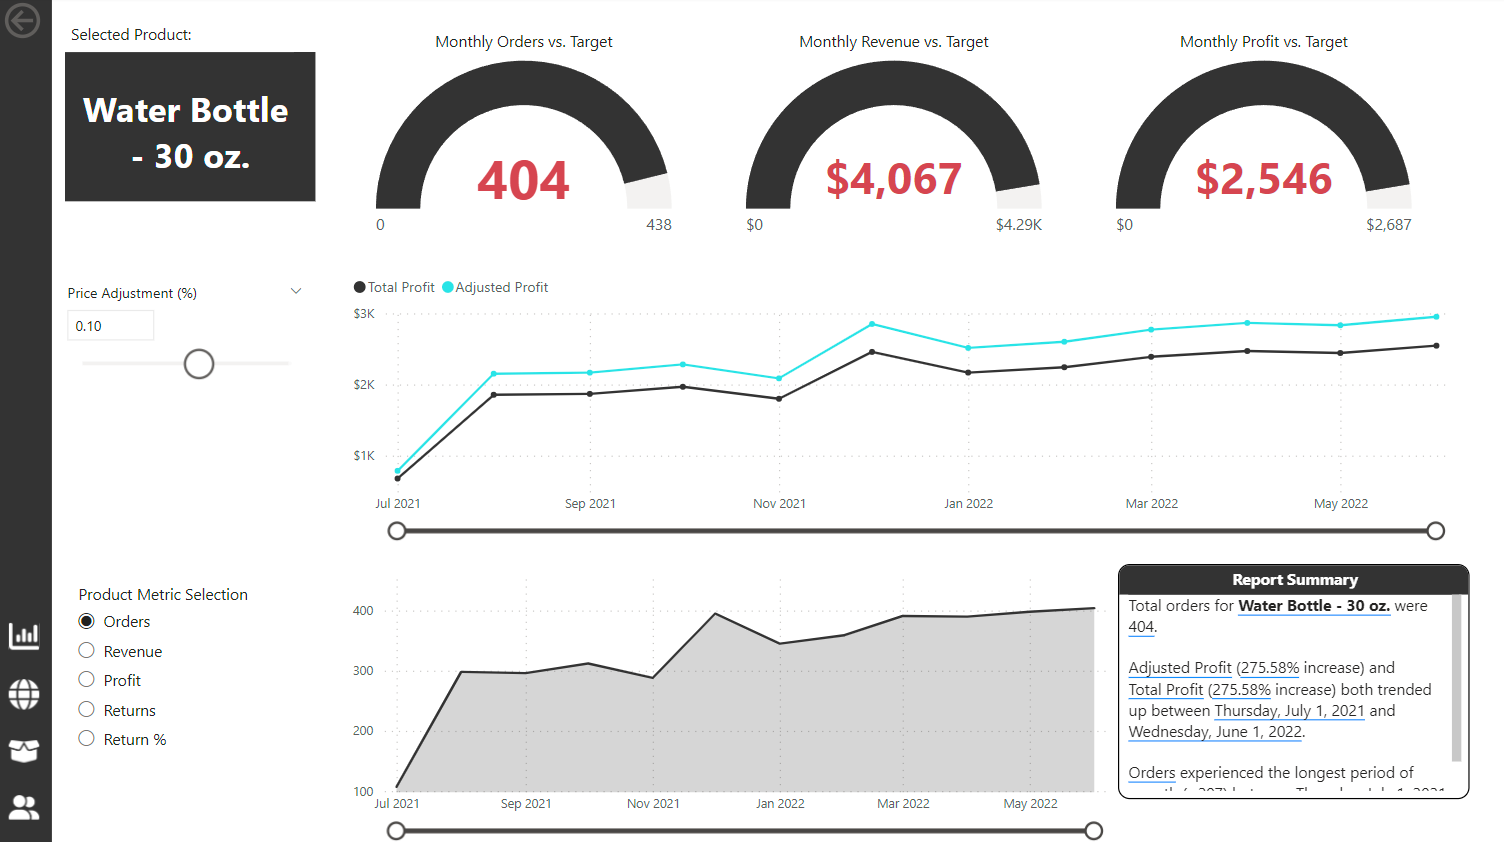

The page's visual inventory and layout, read from the dashboard file:
{"tool":"powerbi","page":{"name":"Product Detail","canvas":[1280,720],"ordinal":2},"visuals":[{"type":"shape","box":[0,0,45,720],"z":0},{"type":"gauge","title":"Monthly Orders vs. Target","fields":{"Y":["Measure Table.Total Orders"],"MaxValue":["Measure Table.Order Target"]},"box":[315.5,28.5,261.6,186.3],"z":1000},{"type":"actionButton","box":[4.6,524.8,34,37.7],"z":1000,"group":"g1"},{"type":"gauge","title":"Monthly Revenue vs. Target","fields":{"Y":["Measure Table.Total Revenue"],"MaxValue":["Measure Table.Revenue Target"]},"box":[630,28.5,261.6,186.3],"z":2000},{"type":"actionButton","box":[4.6,574.4,34,37.7],"z":2000,"group":"g1"},{"type":"gauge","title":"Monthly Profit vs. Target","fields":{"Y":["Measure Table.Total Profit"],"MaxValue":["Measure Table.Profit Target"]},"box":[944.5,28.5,261.6,186.3],"z":3000},{"type":"actionButton","box":[4.6,622.2,34,37.7],"z":3000,"group":"g1"},{"type":"lineChart","title":"Profit Trending","fields":{"Category":["Calendar Lookup.Date Hierarchy.Start of Year","Calendar Lookup.Date Hierarchy.Start of Month","Calendar Lookup.Date Hierarchy.Start of Week","Calendar Lookup.Date Hierarchy.Date"],"Y":["Measure Table.Total Profit","Measure Table.Adjusted Profit"]},"box":[295.8,226.7,955.6,238.2],"z":4000},{"type":"actionButton","box":[4.6,670,34,37.7],"z":4000,"group":"g1"},{"type":"areaChart","title":"Return Trending","fields":{"Y":["Measure Table.Total Orders"],"Category":["Calendar Lookup.Date Hierarchy.Start of Year","Calendar Lookup.Date Hierarchy.Start of Month","Calendar Lookup.Date Hierarchy.Start of Week","Calendar Lookup.Date Hierarchy.Date"]},"box":[295.5,481.9,665.4,238.1],"z":5000},{"type":"actionButton","box":[0,0,100,40],"z":6000},{"type":"card","fields":{"Values":["Min(Product Lookup.ProductName)"]},"box":[56.4,46.6,213.2,127.5],"z":7000},{"type":"textbox","box":[56.4,17.8,194.4,29.3],"z":8000},{"type":"group","id":"g1","title":"Navigation Buttons","box":[4.6,524.8,34,182.9],"z":9000},{"type":"slicer","fields":{"Values":["Price Adjustment (%).Price Adjustment (%)"]},"box":[45.2,238.1,224.9,107.3],"z":10000},{"type":"slicer","fields":{"Values":["Product Metric Selection.Product Metric Selection"]},"box":[54.6,494.1,215.5,192.9],"z":11000},{"type":"textbox","title":"Report Summary","box":[951.5,481.9,299.3,199.5],"z":12000}]}

Visuals, with their boxes on the page's 1280x720 design canvas (x1, y1, x2, y2). These are canvas units, not pixel positions in the 1504x842 screenshot, which may show the page scaled, cropped or inside an application window:
shape: [0, 0, 45, 720]
"Monthly Orders vs. Target" gauge: [316, 28, 577, 215]
actionButton: [5, 525, 39, 562]
"Monthly Revenue vs. Target" gauge: [630, 28, 892, 215]
actionButton: [5, 574, 39, 612]
"Monthly Profit vs. Target" gauge: [944, 28, 1206, 215]
actionButton: [5, 622, 39, 660]
"Profit Trending" lineChart: [296, 227, 1251, 465]
actionButton: [5, 670, 39, 708]
"Return Trending" areaChart: [296, 482, 961, 720]
actionButton: [0, 0, 100, 40]
card - Min(Product Lookup.ProductName): [56, 47, 270, 174]
textbox: [56, 18, 251, 47]
"Navigation Buttons" group: [5, 525, 39, 708]
slicer - Price Adjustment (%).Price Adjustment (%): [45, 238, 270, 345]
slicer - Product Metric Selection.Product Metric Selection: [55, 494, 270, 687]
"Report Summary" textbox: [952, 482, 1251, 681]
